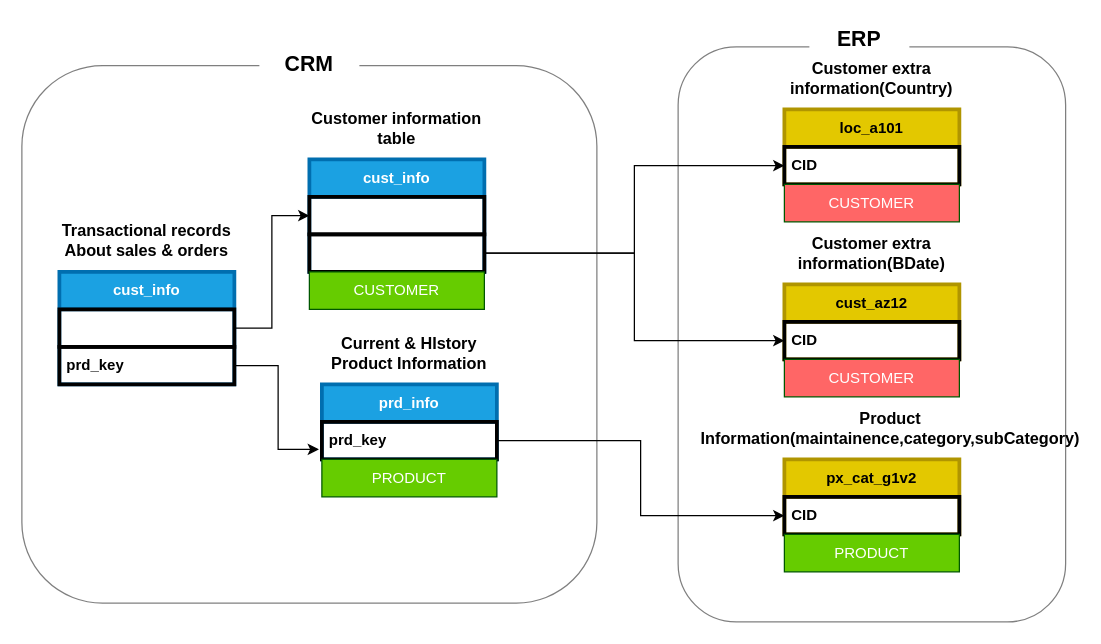
This 1101x644 diagram has some shape labels left out. Each missing label, with the centre of its shape:
"cst_id" goes at [396,215].
"cst_key" goes at [396,252].
"cust_id" goes at [146,327].
